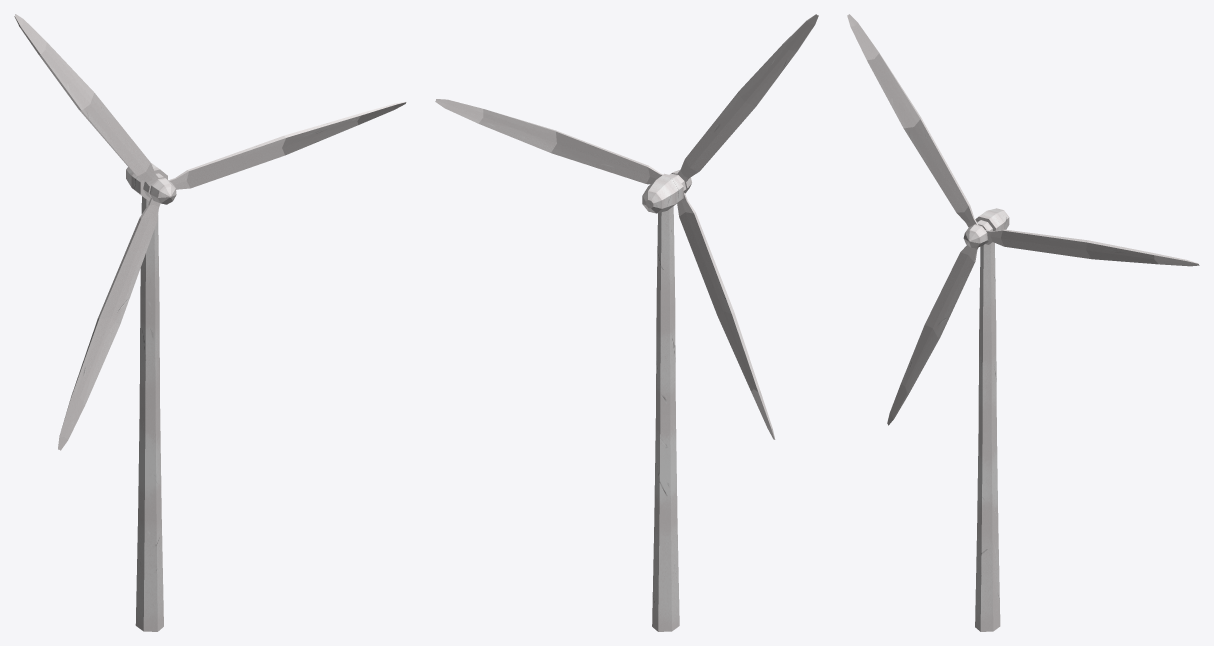
The model's file is windmolen.fbx.
3 views of the same model, side by side, from view 1: azimuth 30°, elevation 25°; view 2: azimuth 150°, elevation 25°; view 3: azimuth 330°, elevation 25° (orthographic). The views are drawn at different scales.
Visible parts, largest first — view 1: Propeller, Base; view 2: Propeller, Base; view 3: Propeller, Base.
Part boxes in pixels (x1,y1,x2,y2): Propeller: (14,14,406,450); Base: (126,163,167,631); Propeller: (435,14,818,439); Base: (642,173,683,631); Propeller: (847,14,1199,425); Base: (975,208,1009,631).
Bounding box in the file's own units: 2635 × 4203 × 434.
2 materials, 2 textured.
